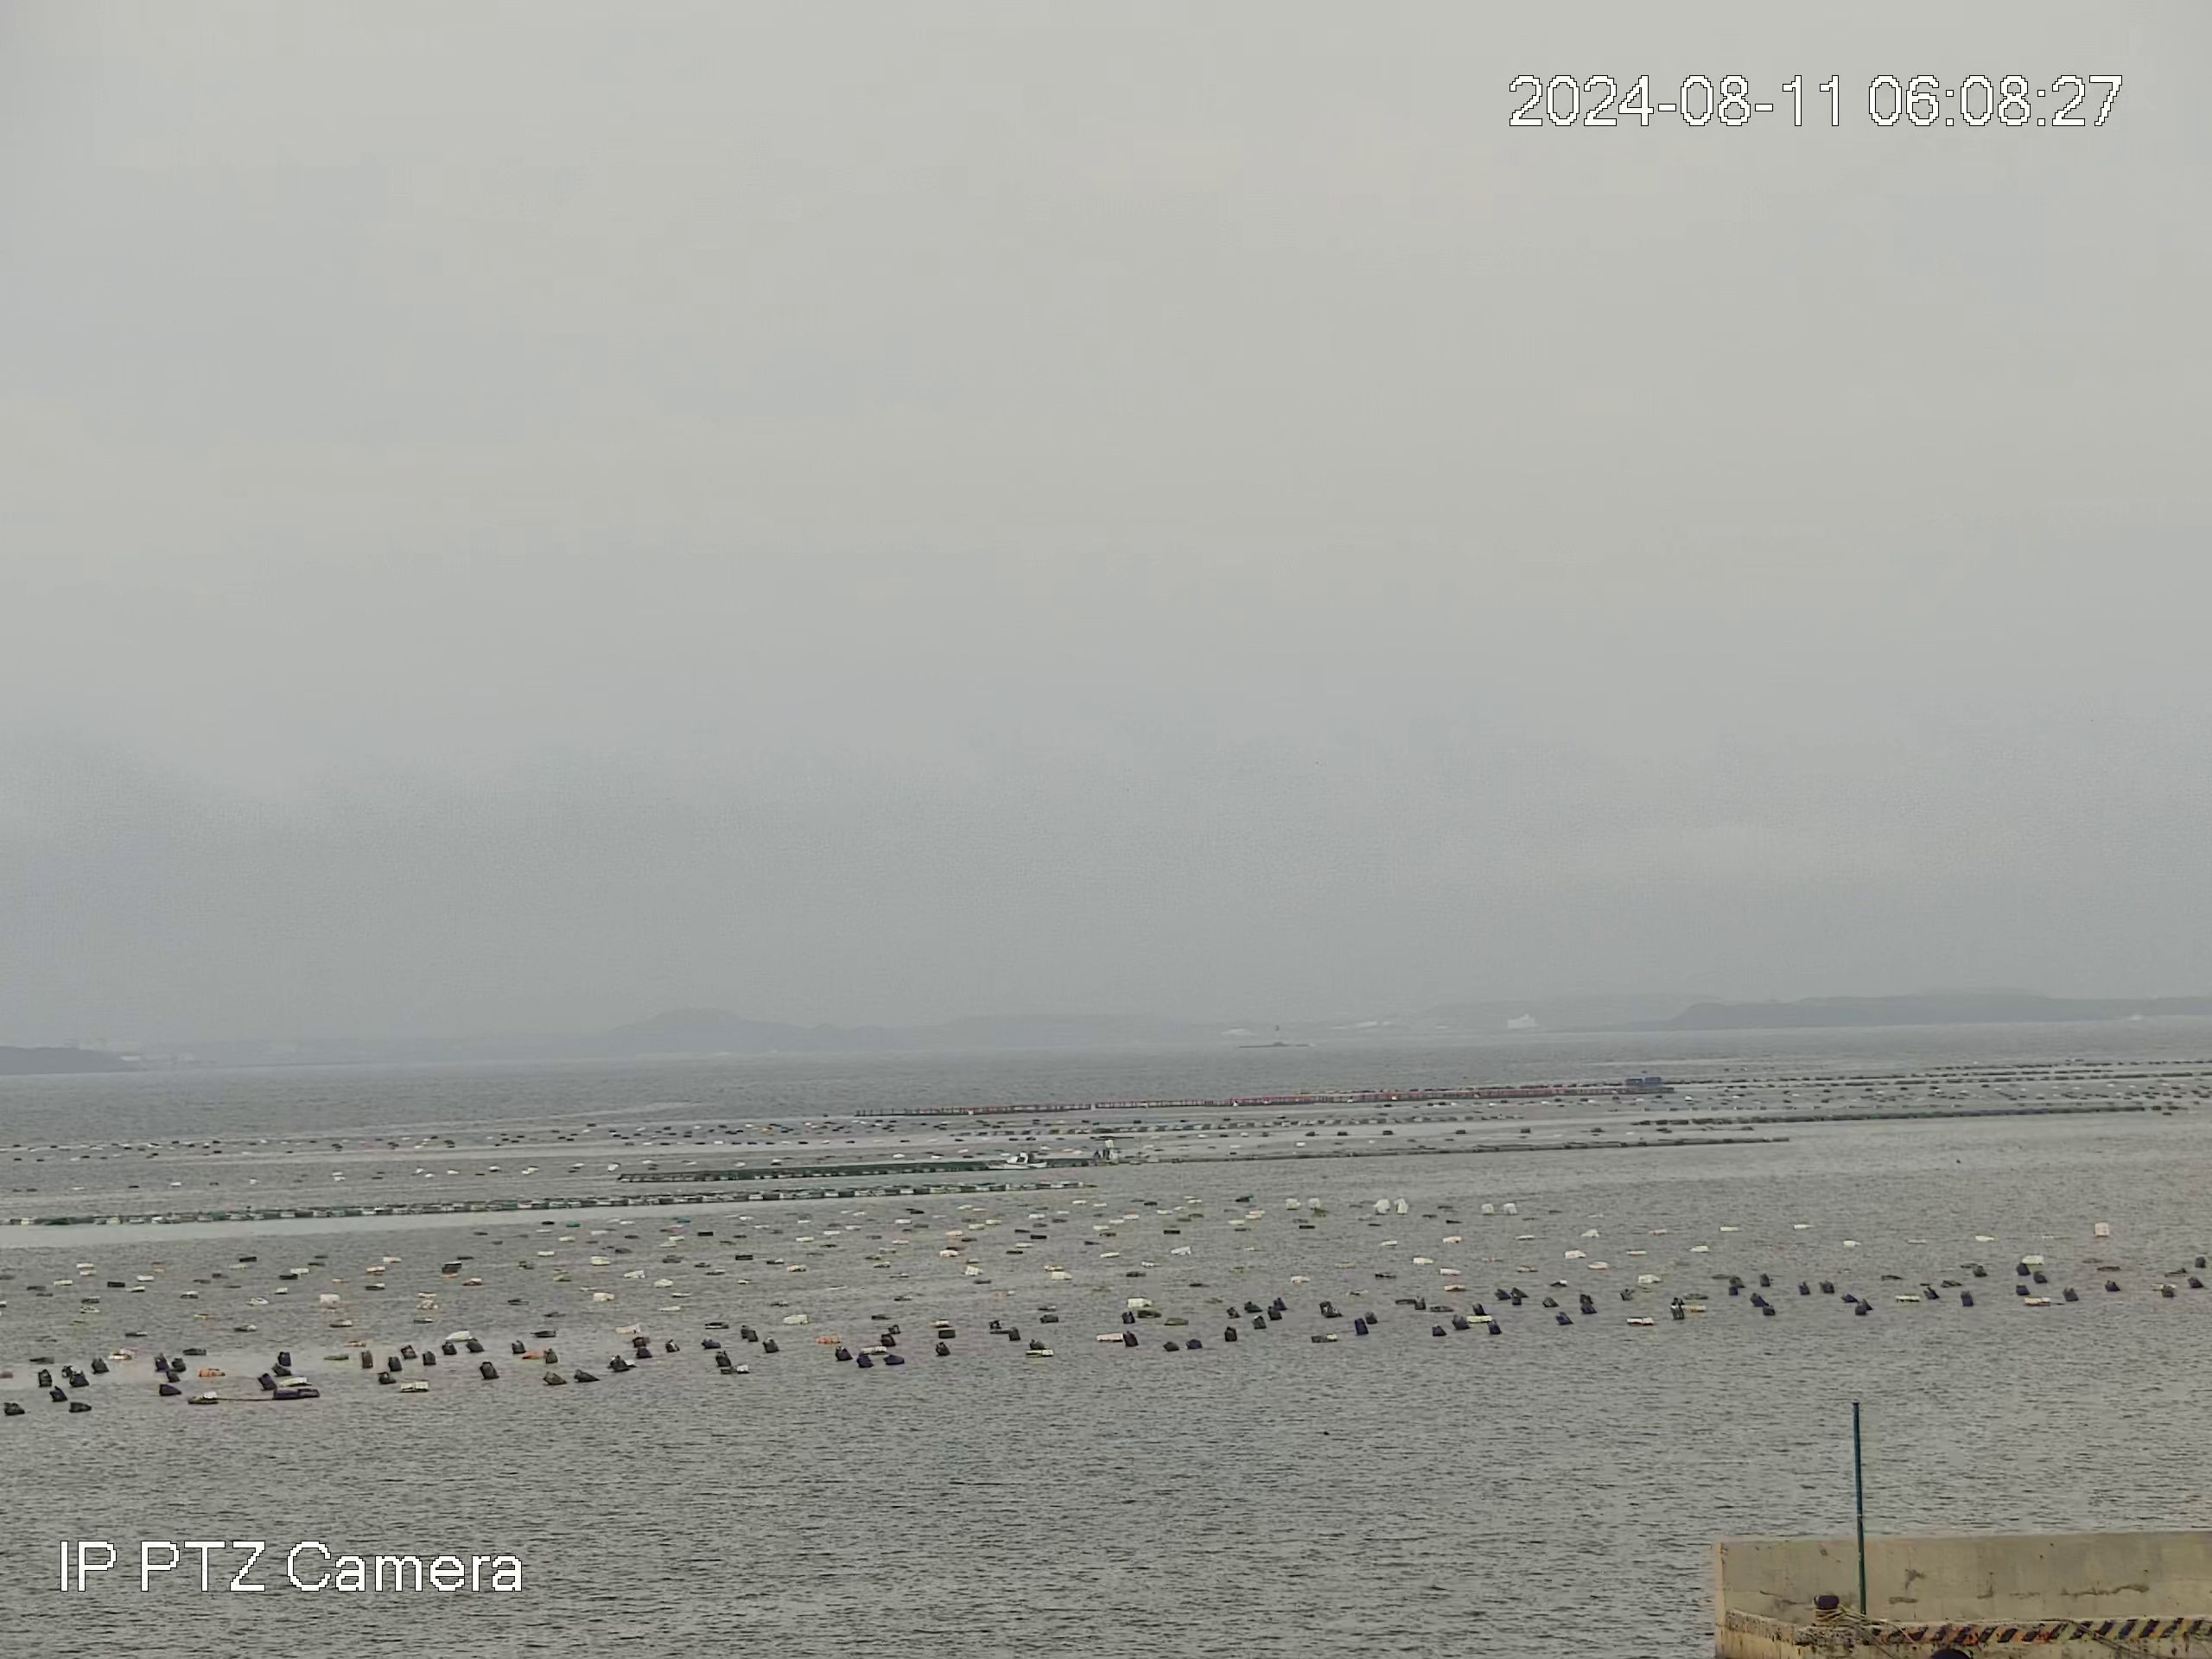boat: (981, 1150, 1049, 1171)
